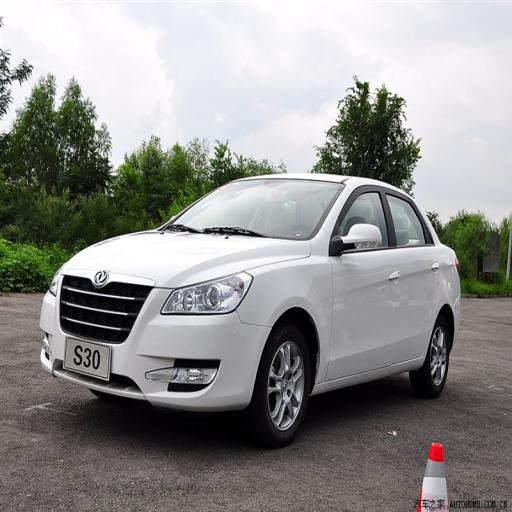Sedan-sDLz: (38, 175, 468, 449)
